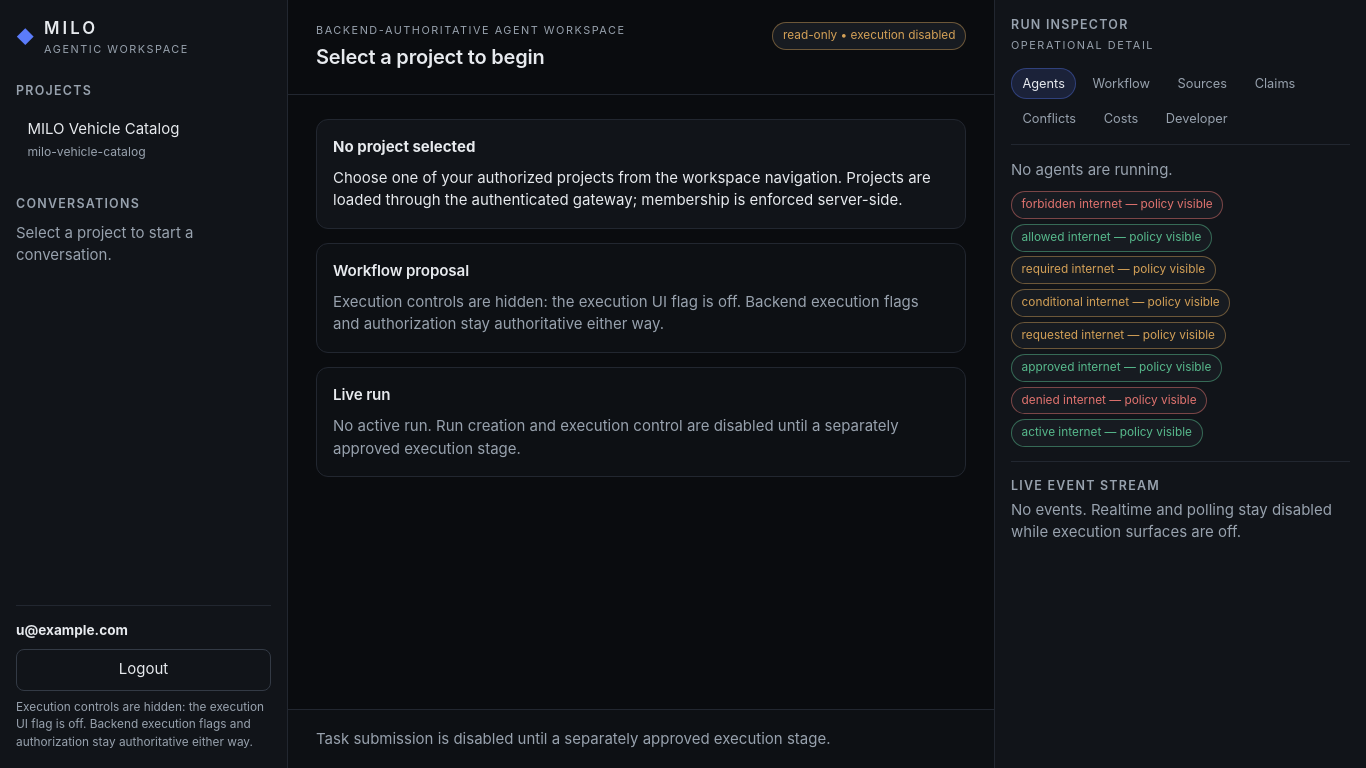
Test: authenticated workspace (execution UI disabled) › lists existing conversations for the selected project
Step 1. Click the text "MILO Vehicle Catalog" → (103, 128), box [27,119,179,138]
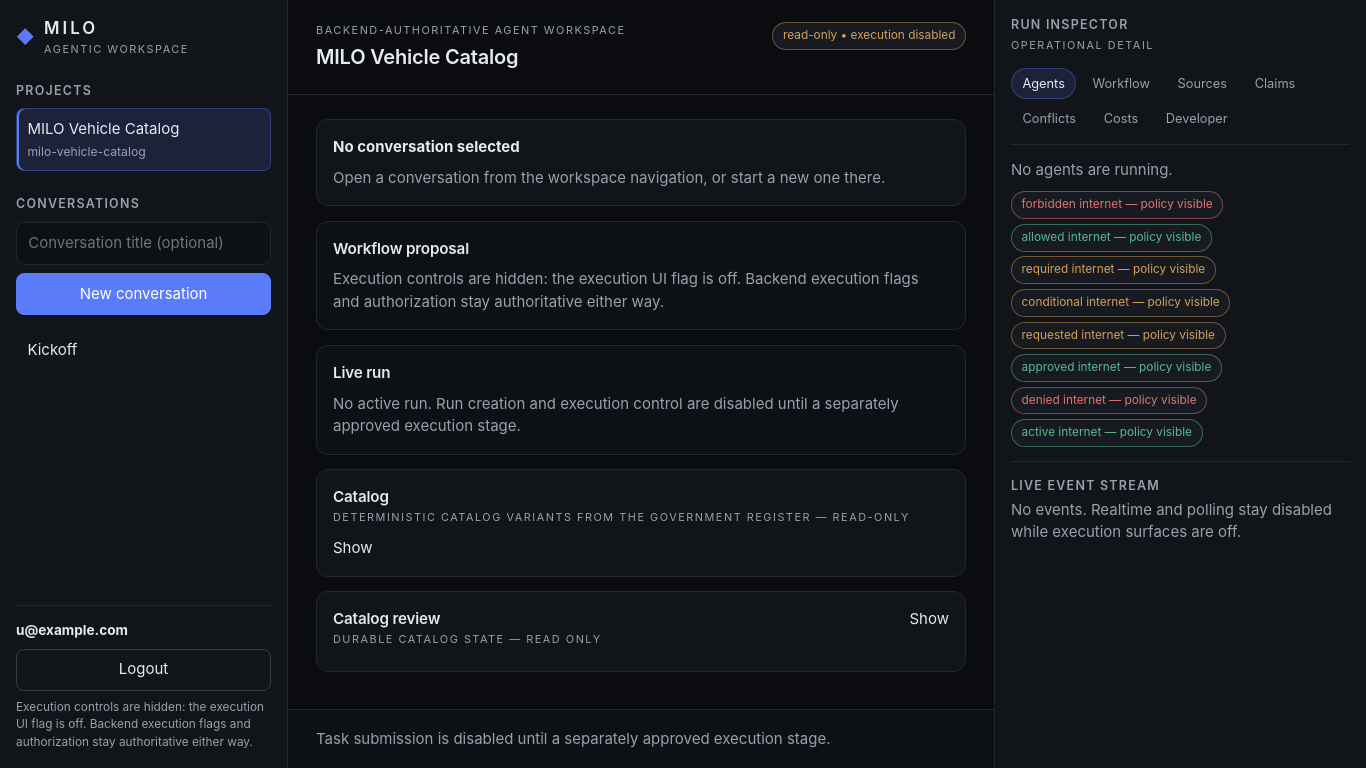
Check: the text "Kickoff" is shown, box [27,340,77,359]
